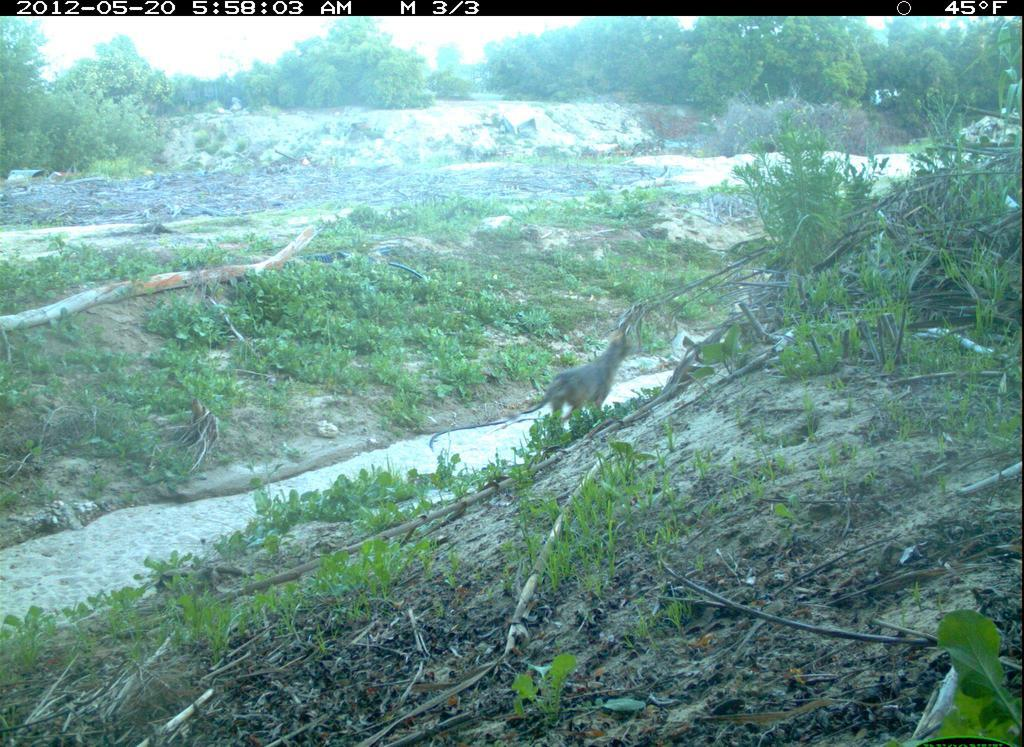coyote: (507, 325, 649, 443)
